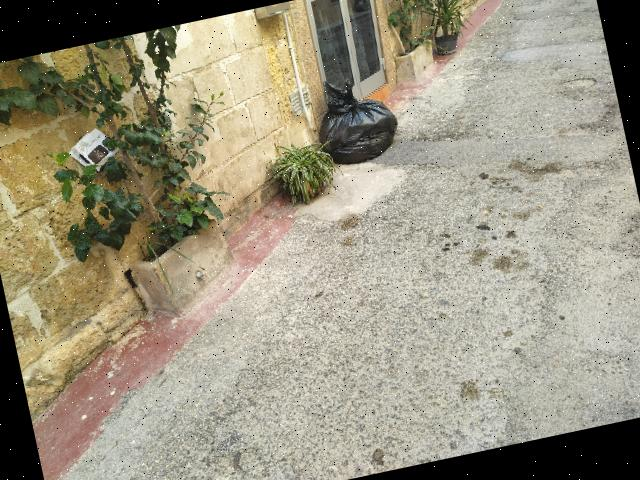Mixed -Black-: (318, 80, 397, 164)
